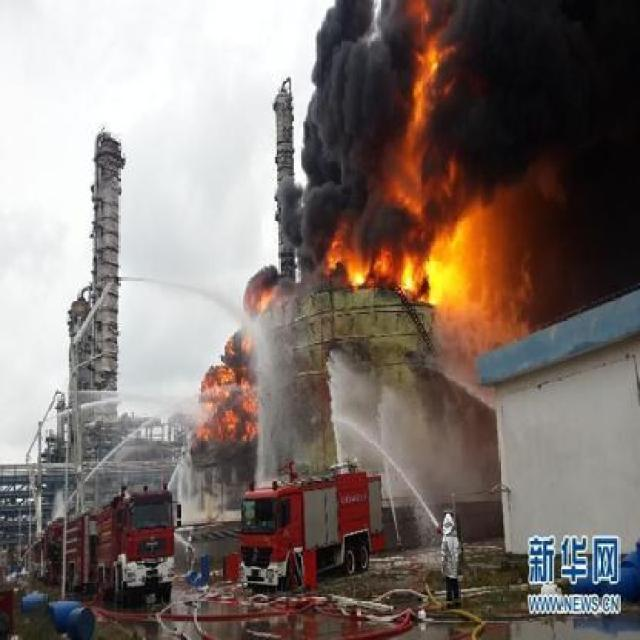Fire: (322, 218, 472, 315), (197, 330, 260, 440), (245, 264, 287, 322)
Smoke: (310, 5, 633, 216)
